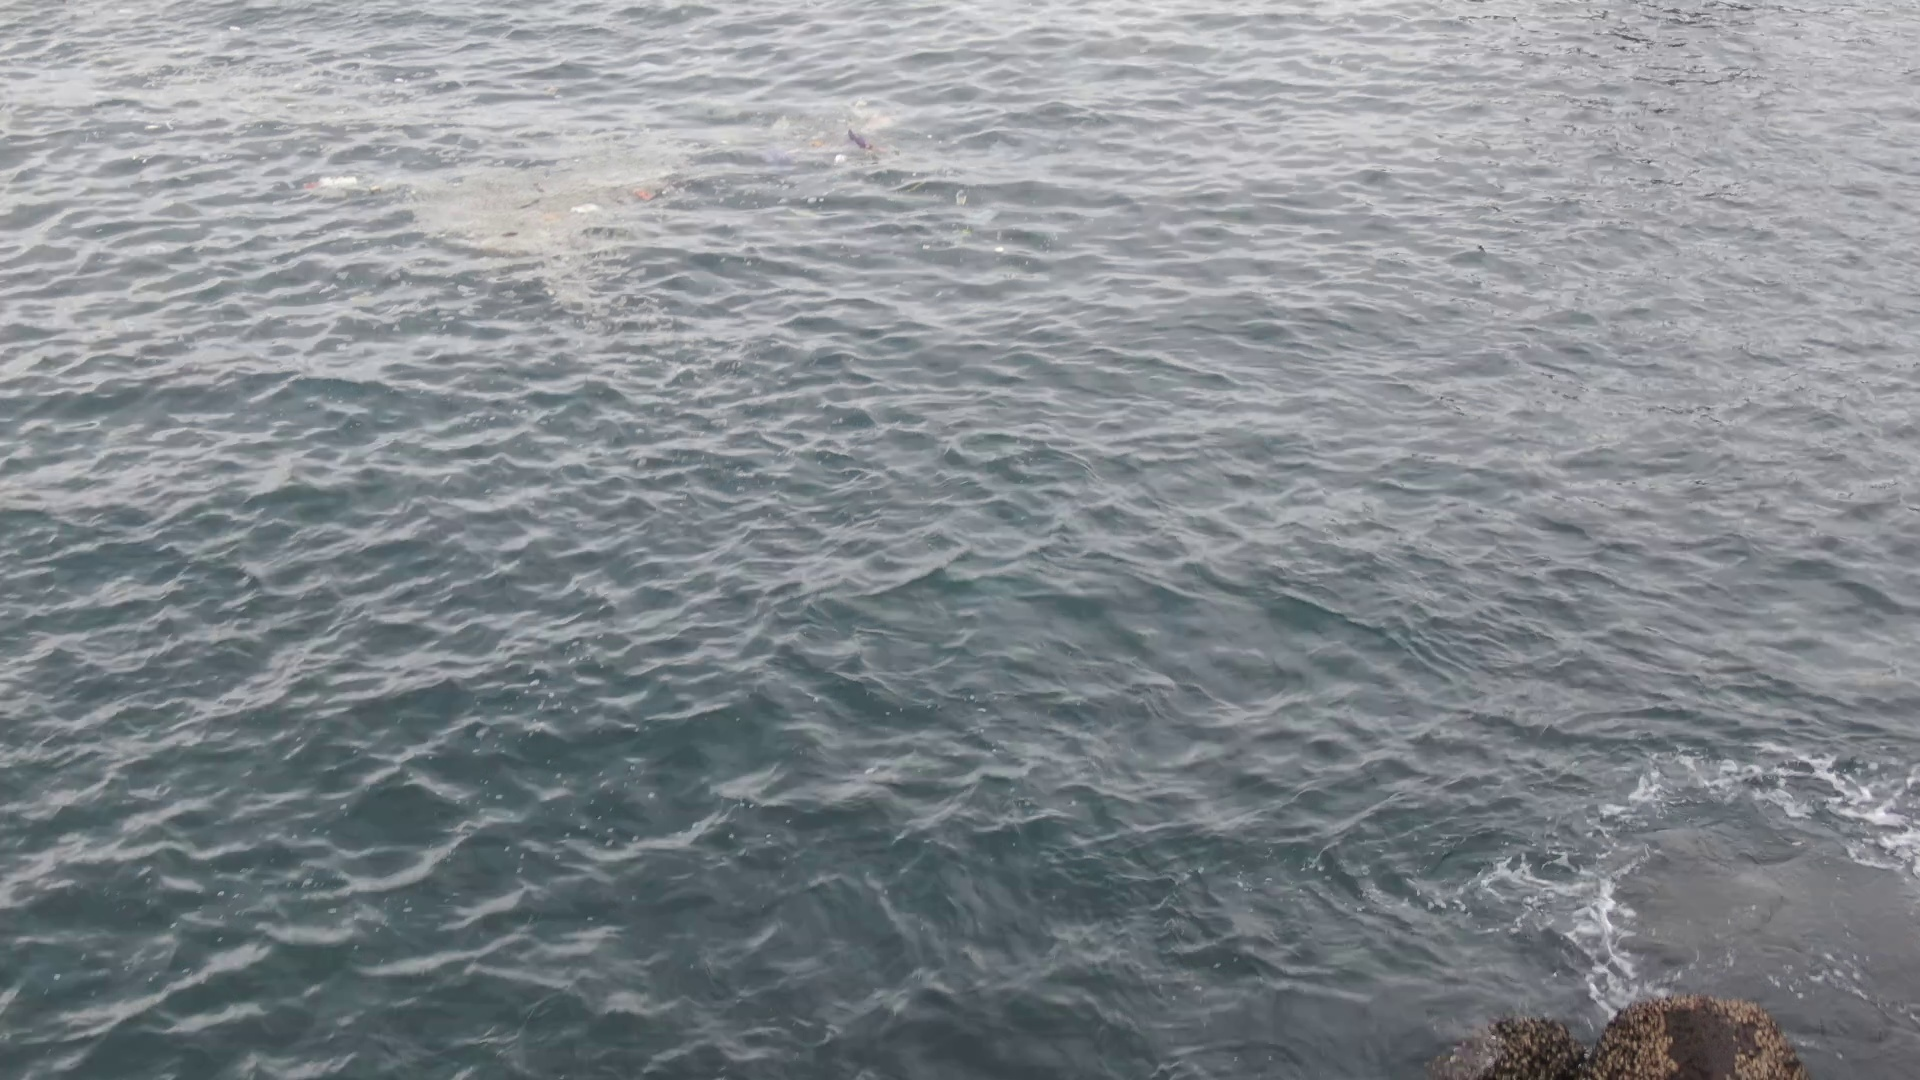garbage: (785, 113, 897, 169), (305, 174, 357, 187), (638, 183, 678, 199), (568, 203, 597, 214)
